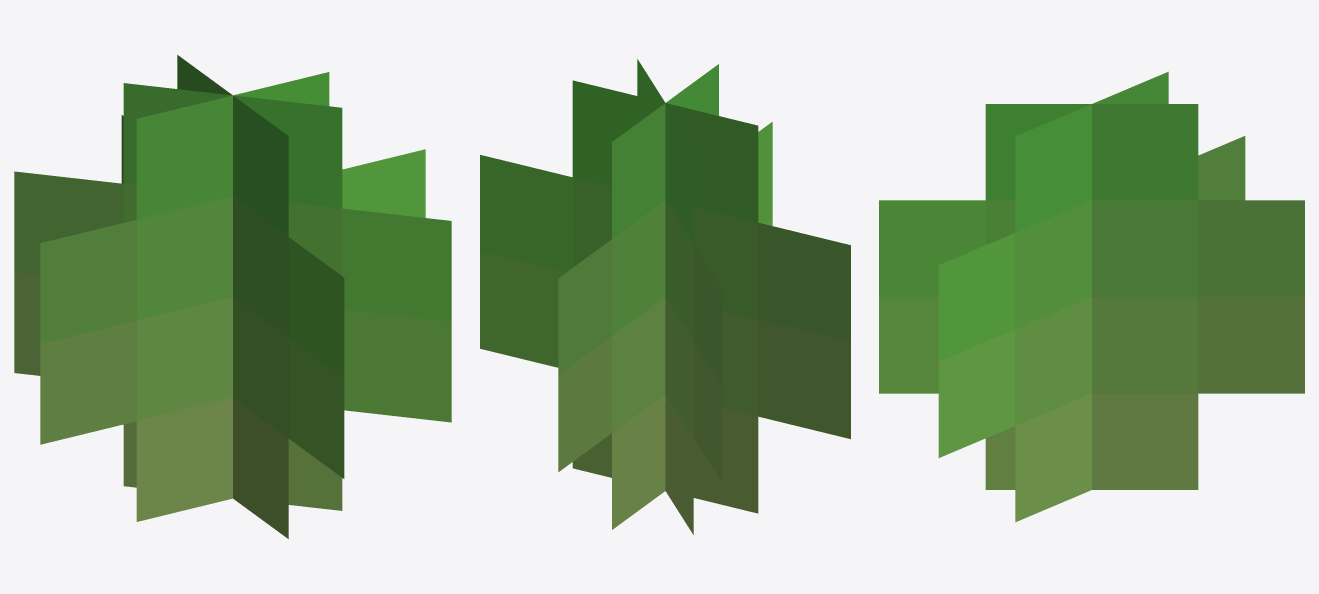
The model's file is foliage_card.gltf.
The picture shows the model from 3 angles, left to right: view 1: azimuth 30°, elevation 25°; view 2: azimuth 150°, elevation 25°; view 3: azimuth 270°, elevation 25°; orthographic projection. The views are drawn at different scales.
Visible parts, largest first — view 1: Foliage; view 2: Foliage; view 3: Foliage.
Boxes of the visible parts, x1,y1,x2,y2 form: Foliage: (14, 55, 451, 538); Foliage: (480, 59, 850, 534); Foliage: (879, 71, 1304, 522).
Size of the model in its own units: 1 by 1 by 1.
1 material, 1 textured.
